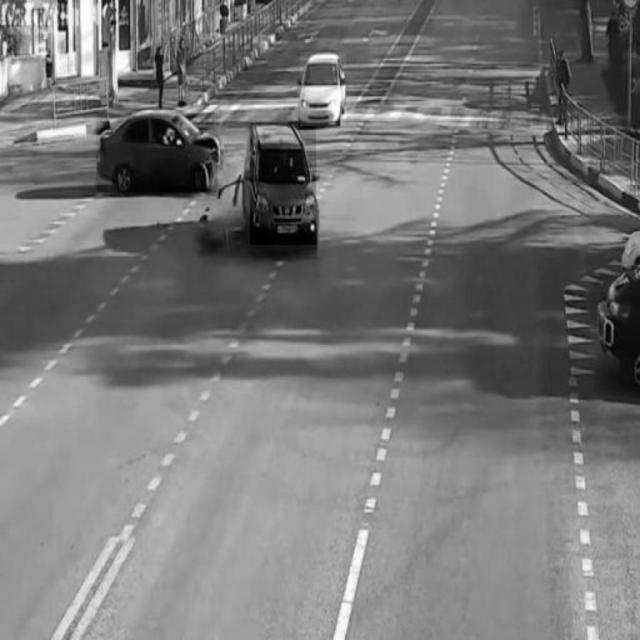vehicle: (97, 112, 218, 192), (250, 122, 316, 244), (300, 53, 346, 126)
